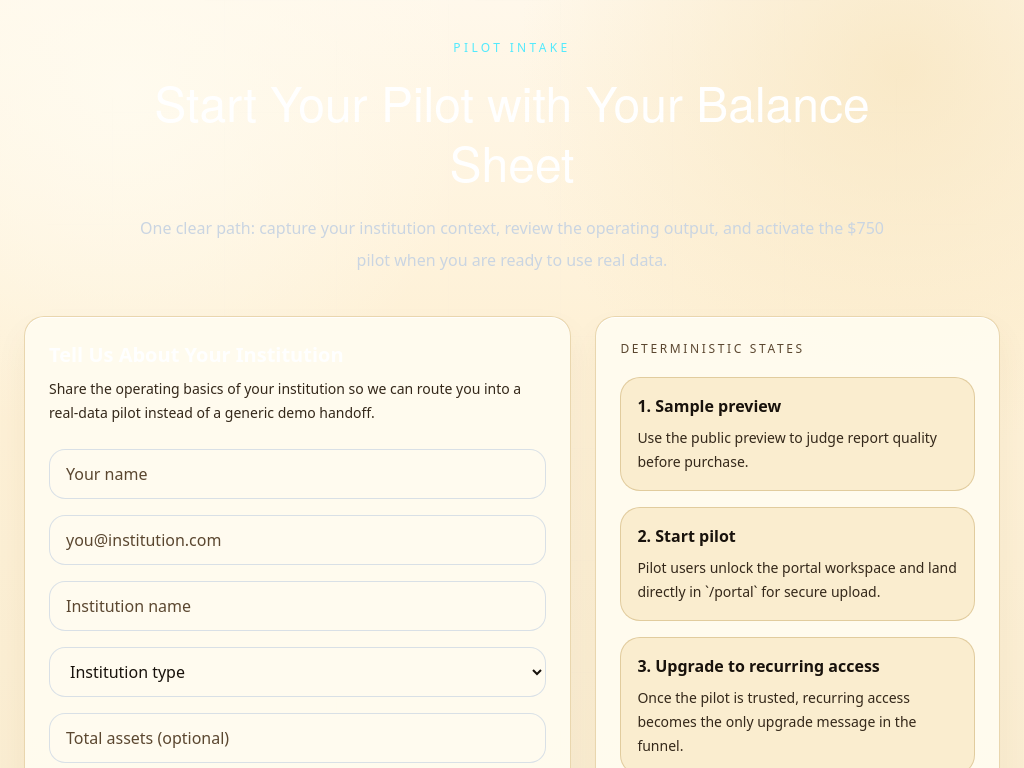
GetStartedPage › captures guest intake and shows preview + paid unlock state
This screenshot has width=1024, height=768.
Expected: the heading "Start Your Pilot with Your Balance Sheet" is shown, [128,72,896,192]
Step 1. Type "Maria" into the field with placeholder "Your name" → (298, 474), box [49,449,546,499]
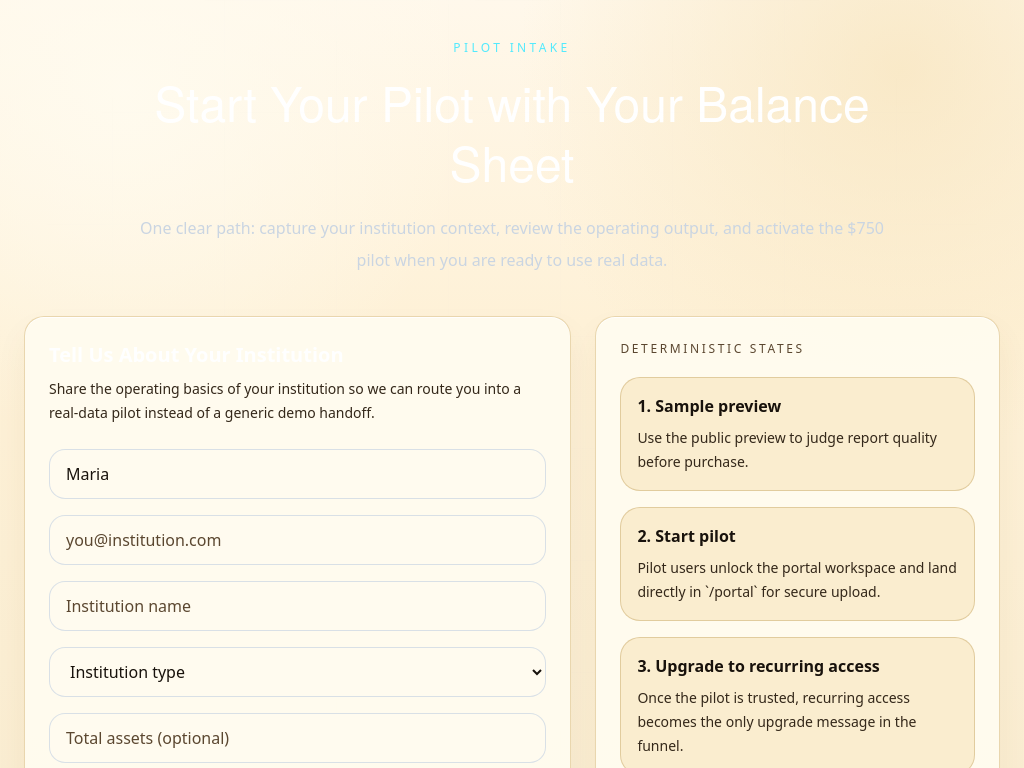
Step 2. Type "maria@example.coop" into the field with placeholder "you@institution.com" → (298, 540), box [49,515,546,565]
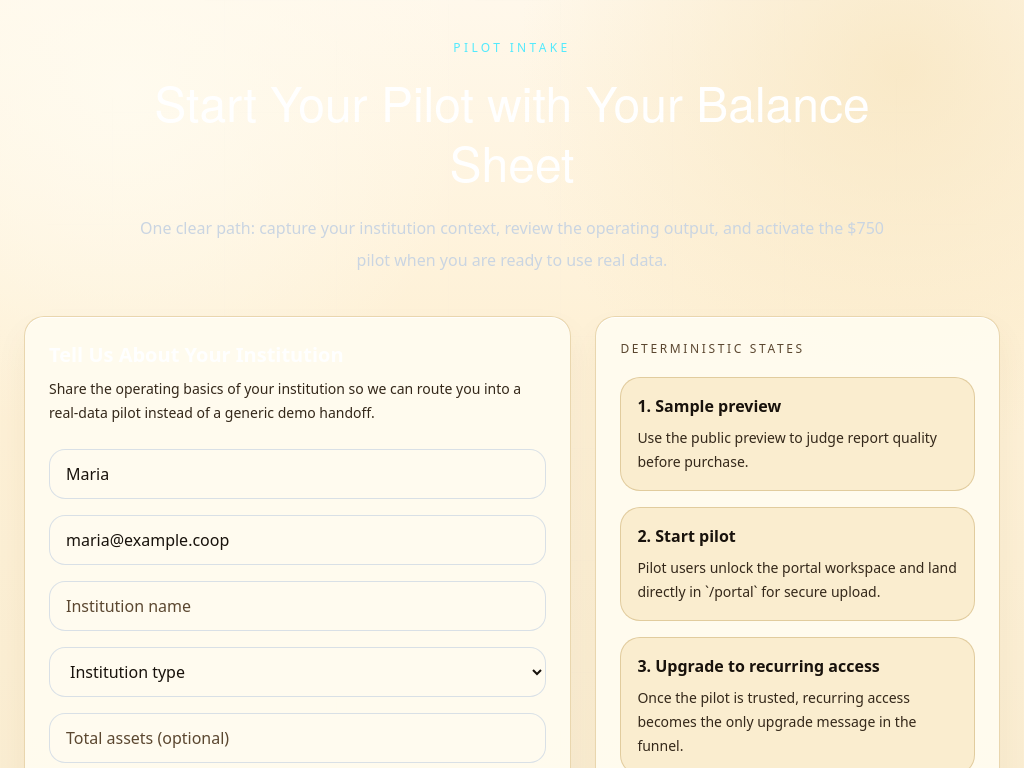
Step 3. Type "Coop Test" into the field with placeholder "Institution name" → (298, 606), box [49,581,546,631]
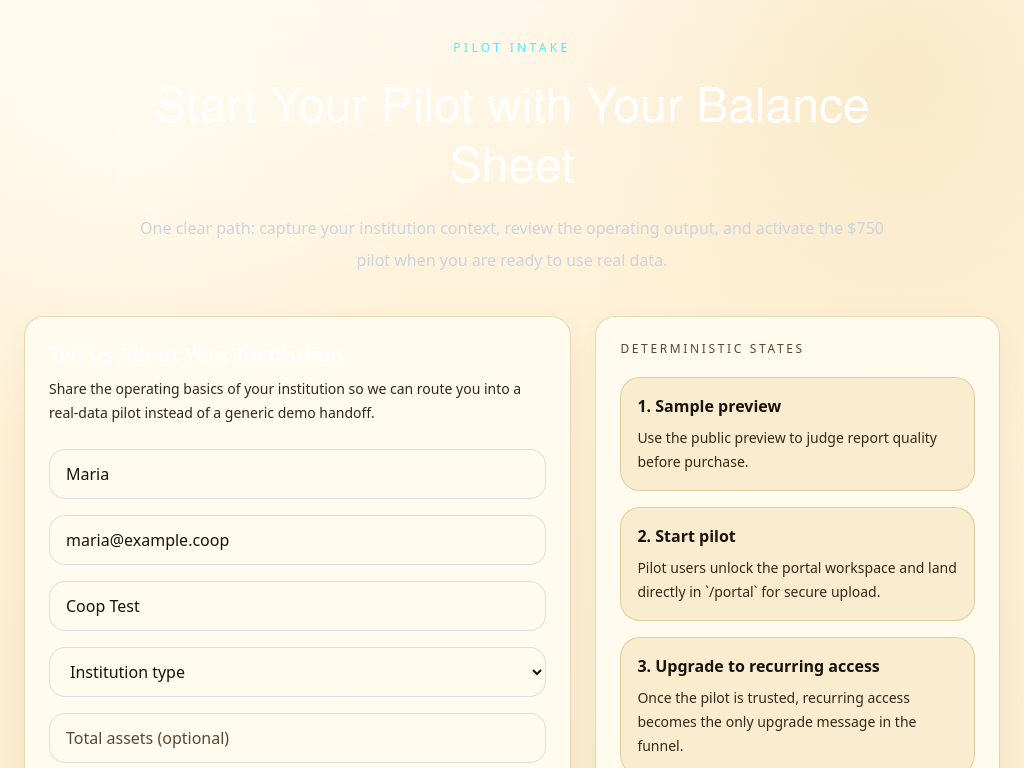
Step 4. Select "Cooperativa" in the dropdown → (298, 672), box [49,647,546,697]
(page scrolled)
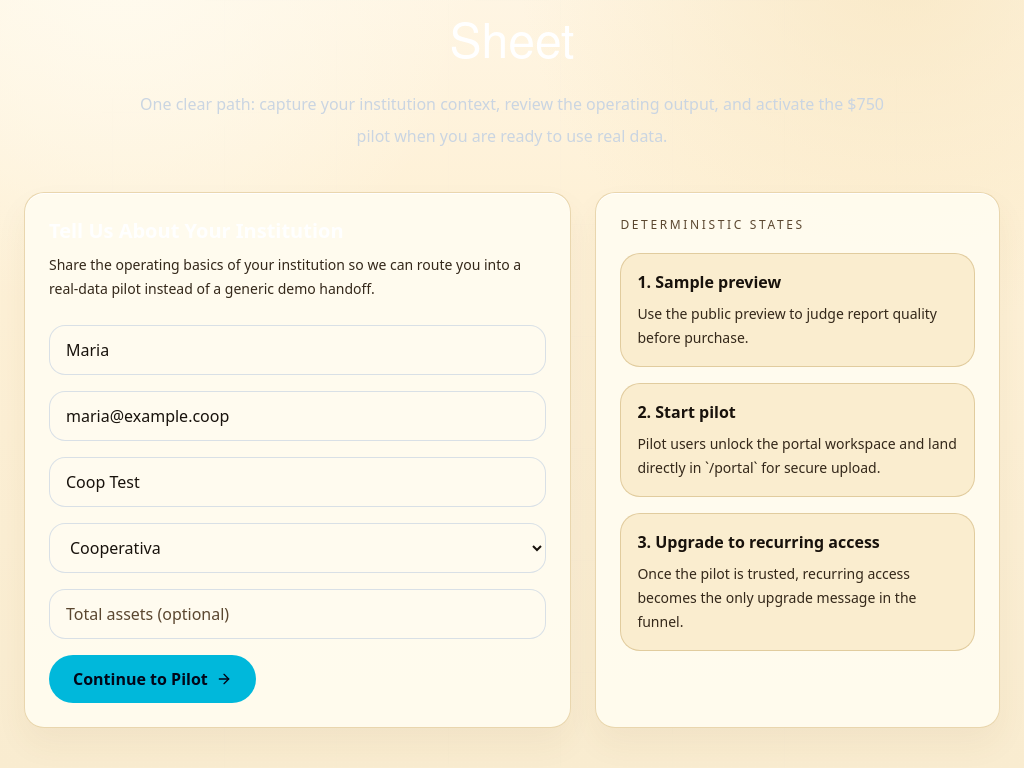
Step 5. Click the button "Continue to Pilot" → click(152, 679), box [49,655,256,703]
(page scrolled)
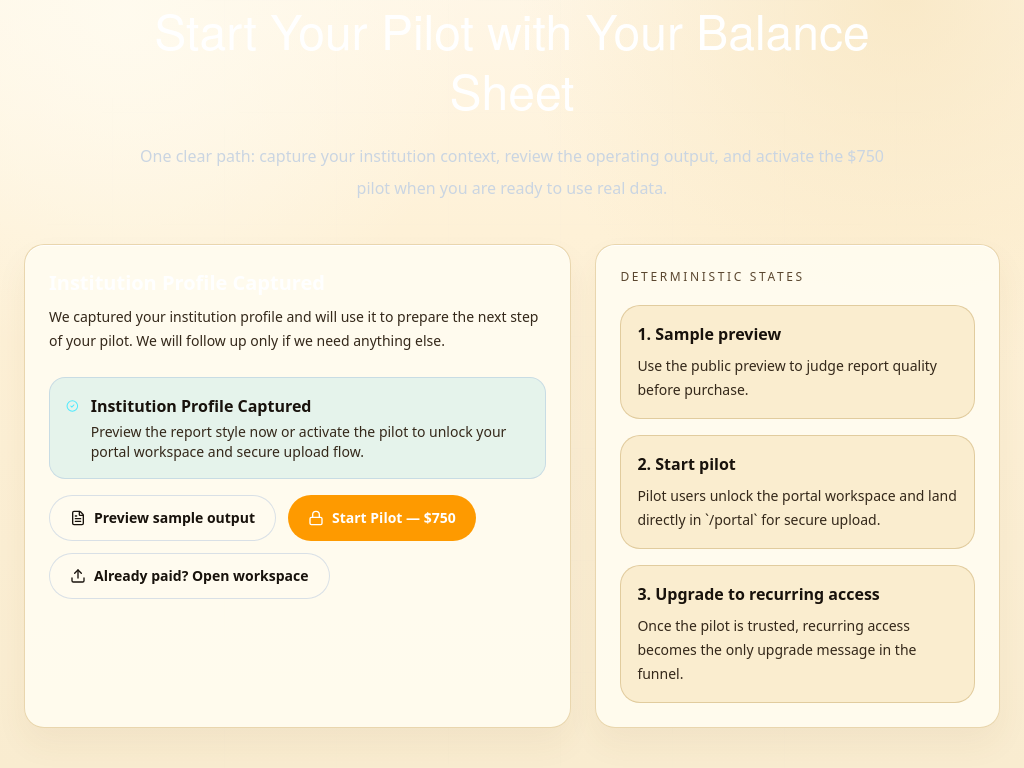
Now the button "Start Pilot — $750" is shown, box [288,495,476,541]
